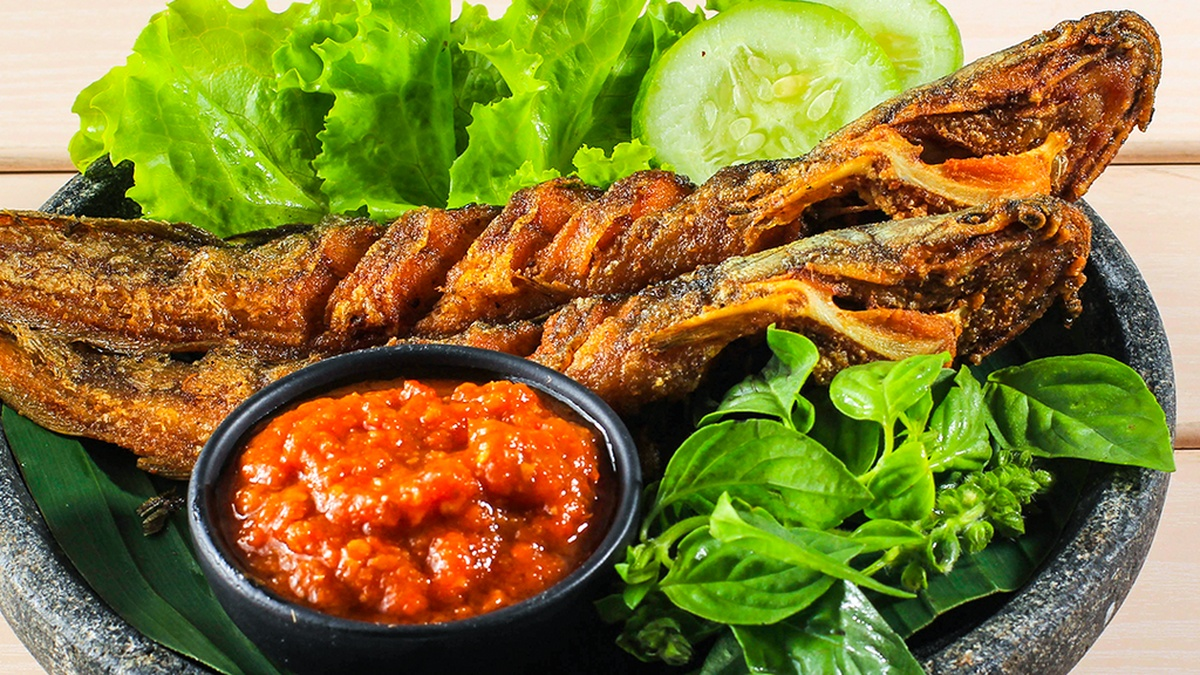pecel_lele: (6, 152, 1162, 331)
